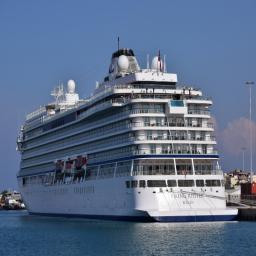cruises: (17, 45, 239, 223)
